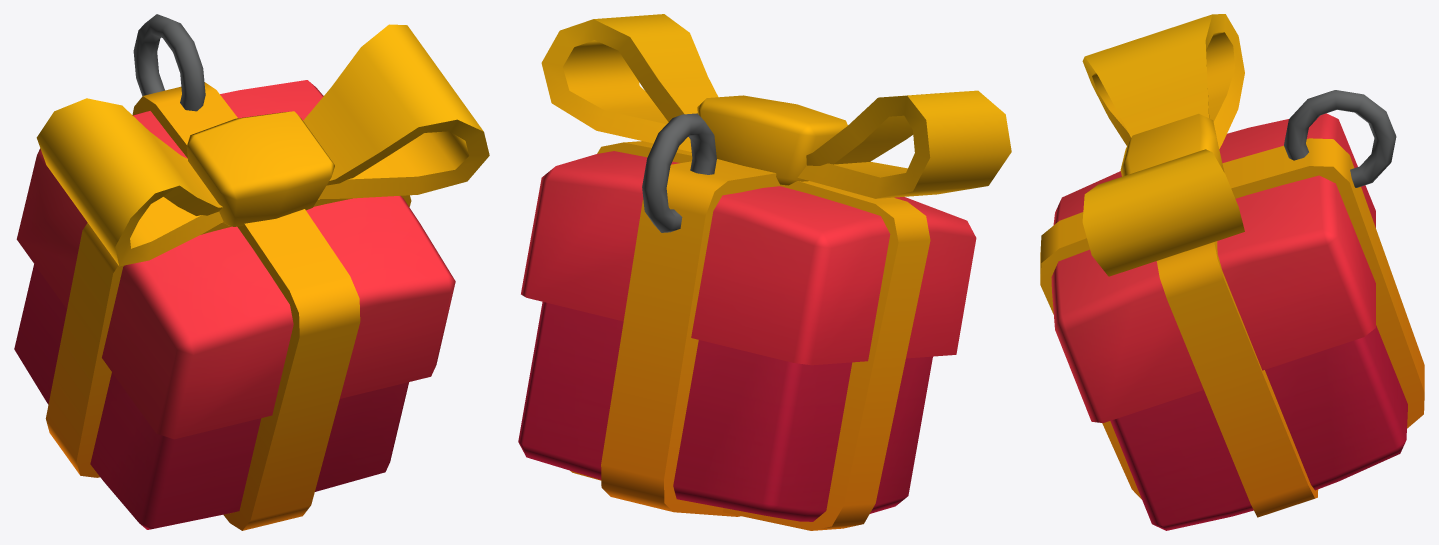
The model's file is Charm_04.fbx.
The picture shows the model from 3 angles, left to right: view 1: azimuth 30°, elevation 25°; view 2: azimuth 150°, elevation 25°; view 3: azimuth 270°, elevation 25°; orthographic projection. The views are drawn at different scales.
Visible parts, largest first — view 1: Charm_04; view 2: Charm_04; view 3: Charm_04.
Boxes of the visible parts, x1,y1,x2,y2 form: Charm_04: (14, 14, 489, 530); Charm_04: (518, 14, 1011, 530); Charm_04: (1040, 14, 1424, 530).
Bounding box in the file's own units: 4.51 × 5.04 × 4.28.
